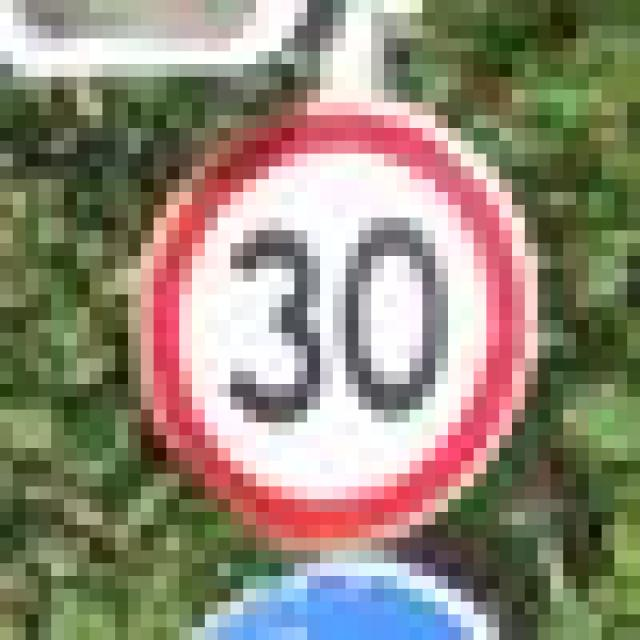SPEED_LIMIT_30: (115, 76, 538, 538)
